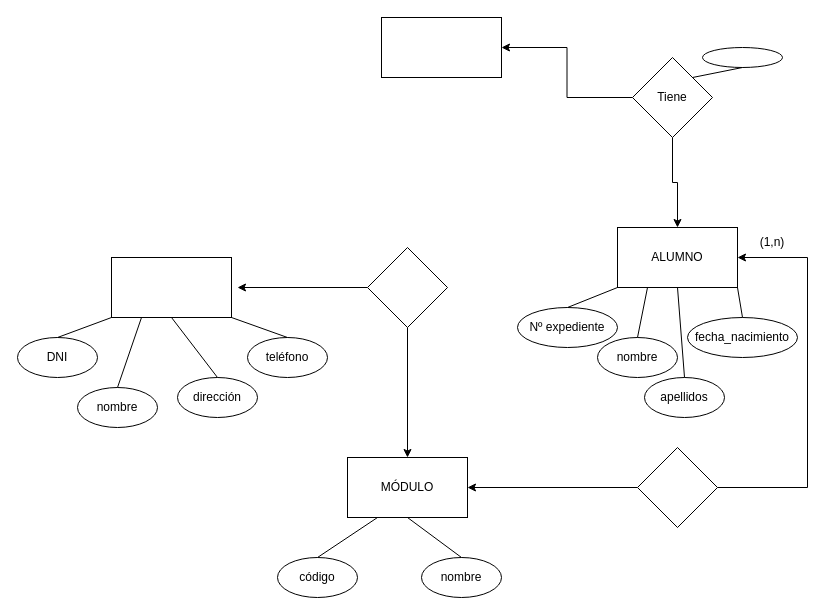
Some shapes in this 833 by 615 pixel diagram are drawn without their labels. The box of each missing label's shape, as (x1, y1, x2, y2) in pixels:
CURSO: (380, 16, 502, 78)
es delegado: (702, 46, 782, 68)
Imparte: (366, 246, 448, 328)
Matricula: (636, 446, 718, 528)
PROFESOR: (110, 256, 232, 318)
